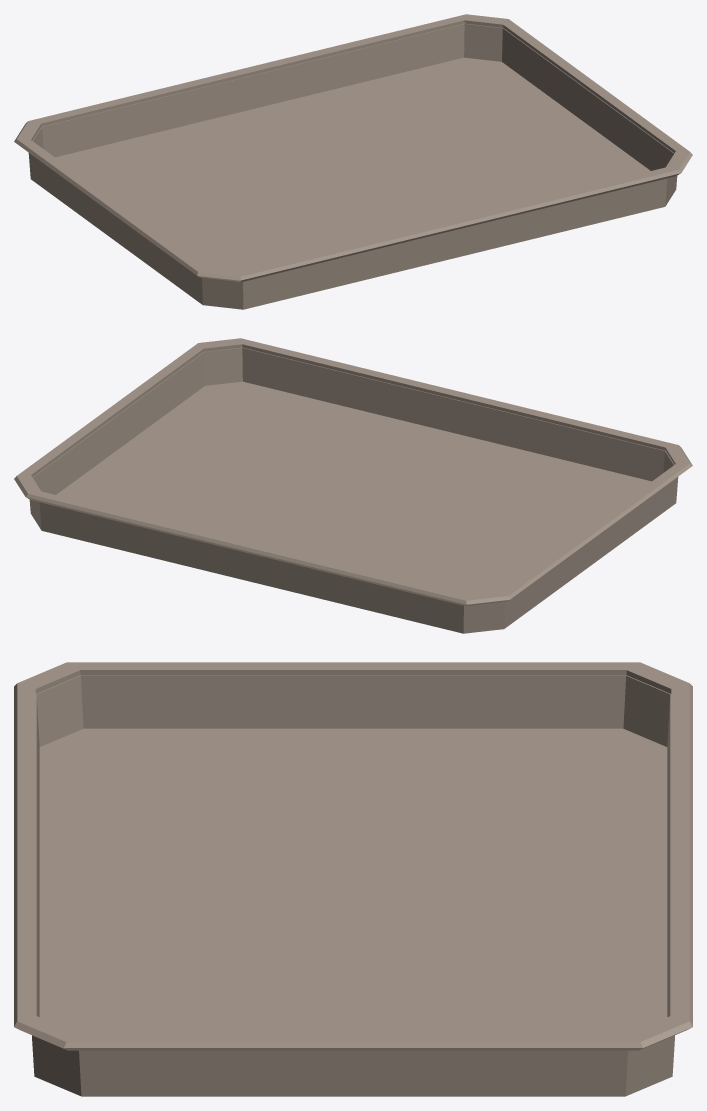
File: SM_Cook_SteelTray_Large_01.fbx
The picture shows the model from 3 angles, top to bottom: view 1: azimuth 30°, elevation 25°; view 2: azimuth 150°, elevation 25°; view 3: azimuth 270°, elevation 25°; orthographic projection. The views are drawn at different scales.
Visible parts, largest first — view 1: SM_Cook_SteelTray_Large_01; view 2: SM_Cook_SteelTray_Large_01; view 3: SM_Cook_SteelTray_Large_01.
Boxes of the visible parts, x1,y1,x2,y2 form: SM_Cook_SteelTray_Large_01: (14, 14, 692, 309); SM_Cook_SteelTray_Large_01: (14, 338, 692, 633); SM_Cook_SteelTray_Large_01: (14, 662, 692, 1096).
Bounding box in the file's own units: 0.4 × 0.03 × 0.3.
1 material, 1 textured.
